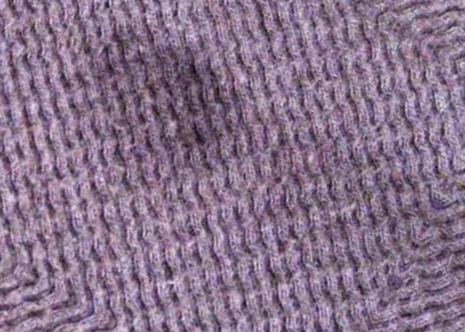stain: (91, 29, 233, 174)
